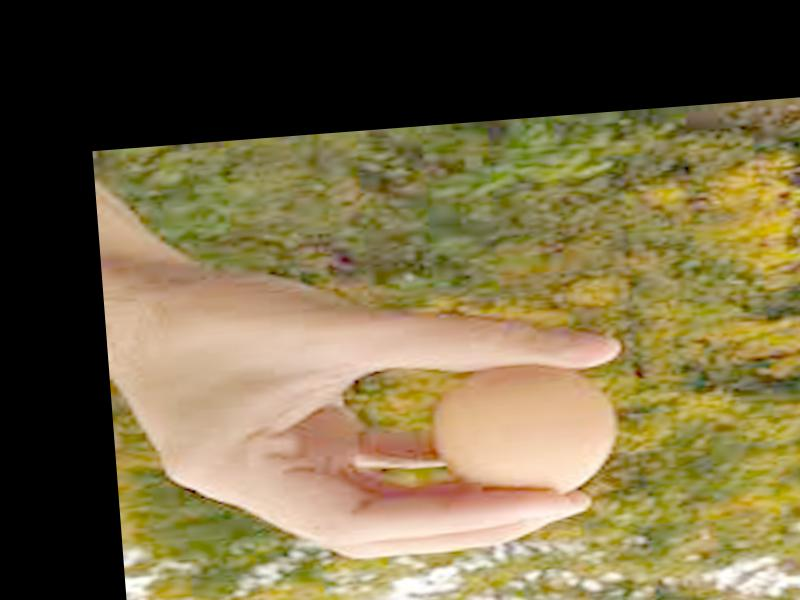Eggs: (432, 357, 619, 505)
